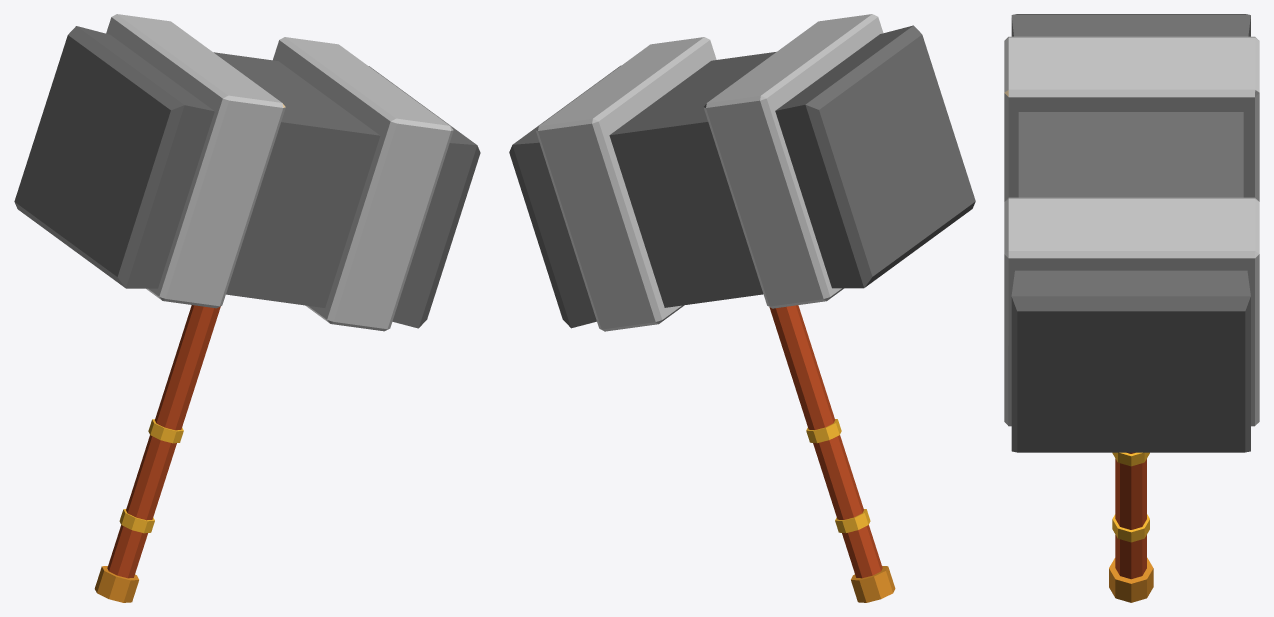
The model's file is ReHammer.fbx.
3 renders of one model, left to right at view 1: azimuth 30°, elevation 25°; view 2: azimuth 150°, elevation 25°; view 3: azimuth 270°, elevation 25°, orthographic. The views are drawn at different scales.
Parts seen in each view (by area): view 1: 円.004; view 2: 円.004; view 3: 円.004.
Boxes of the visible parts, x1,y1,x2,y2 form: 円.004: (14,14,480,602); 円.004: (509,14,975,602); 円.004: (1004,14,1259,602).
Size of the model in its own units: 4.15 by 5.82 by 2.29.
Materials: 1 (1 with a texture image).
